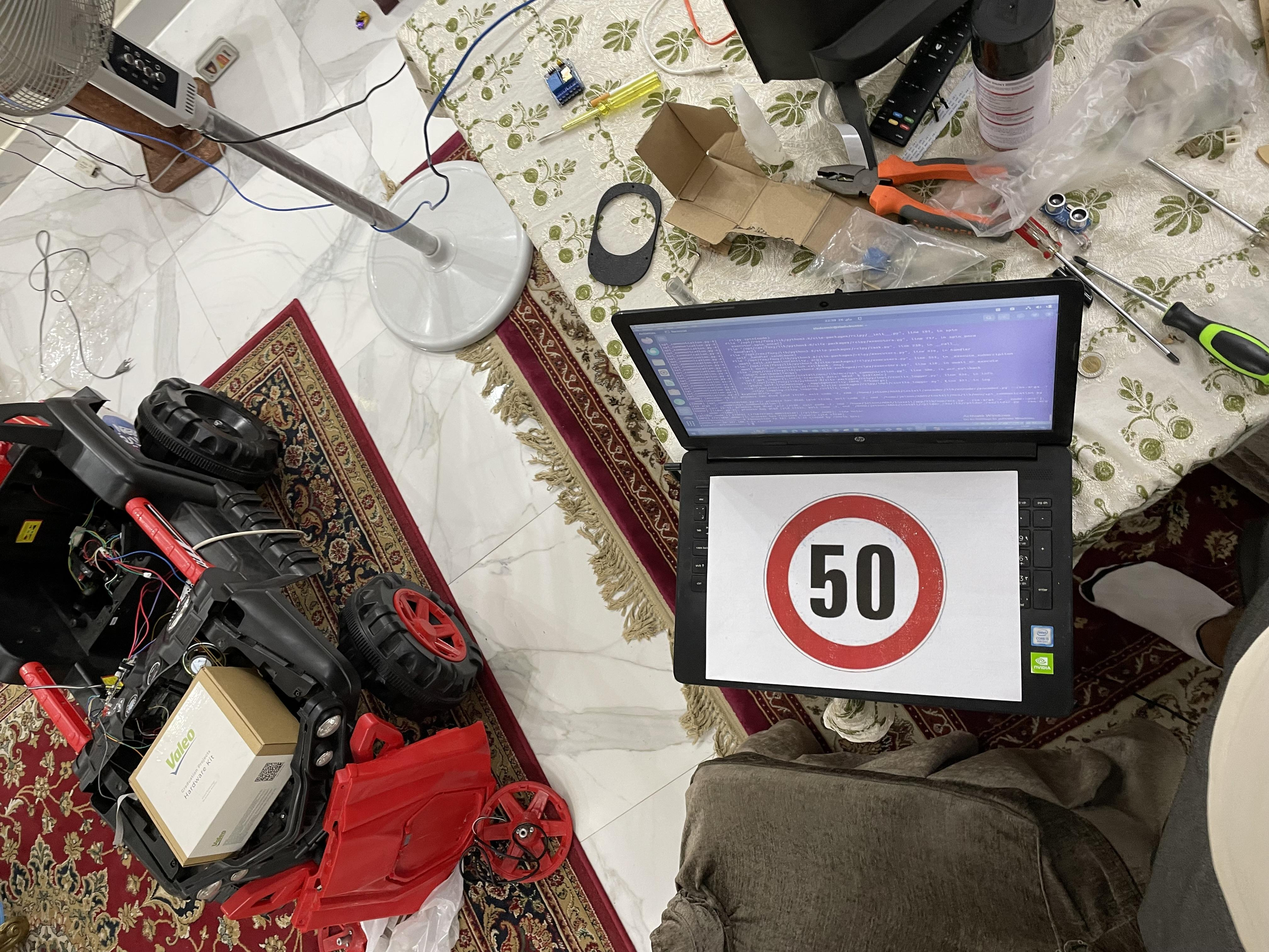50-Speed: (366, 565, 627, 711)
